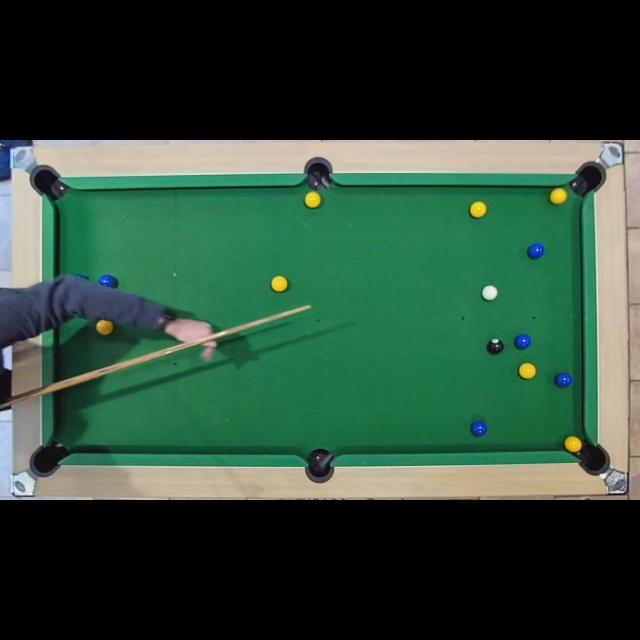Ball: (554, 372, 572, 388), (469, 202, 487, 218), (96, 319, 114, 335), (270, 276, 288, 292), (98, 274, 115, 290), (487, 338, 503, 354), (514, 334, 530, 350), (528, 243, 544, 259), (520, 363, 536, 379), (551, 188, 567, 204), (471, 421, 487, 437), (305, 192, 321, 208), (565, 437, 581, 453), (73, 274, 89, 288), (482, 286, 498, 300)
